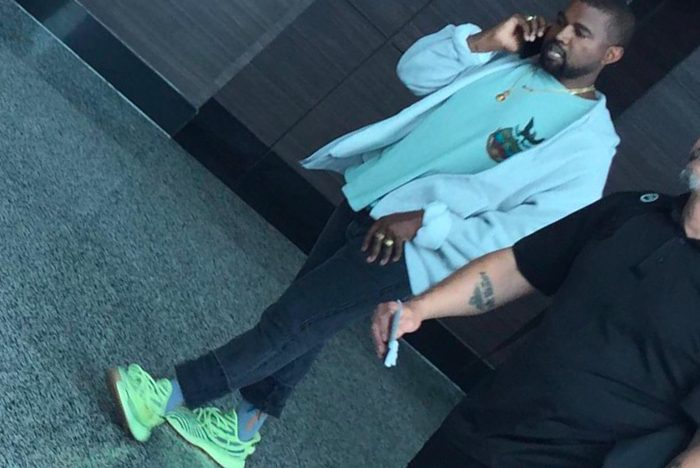Yeezy Semi-Frozen: (158, 384, 267, 468), (98, 354, 171, 448)
